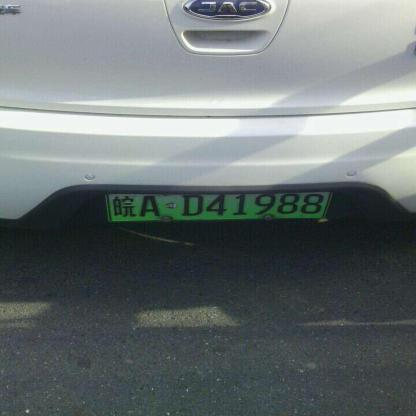lp: (107, 191, 330, 220)
